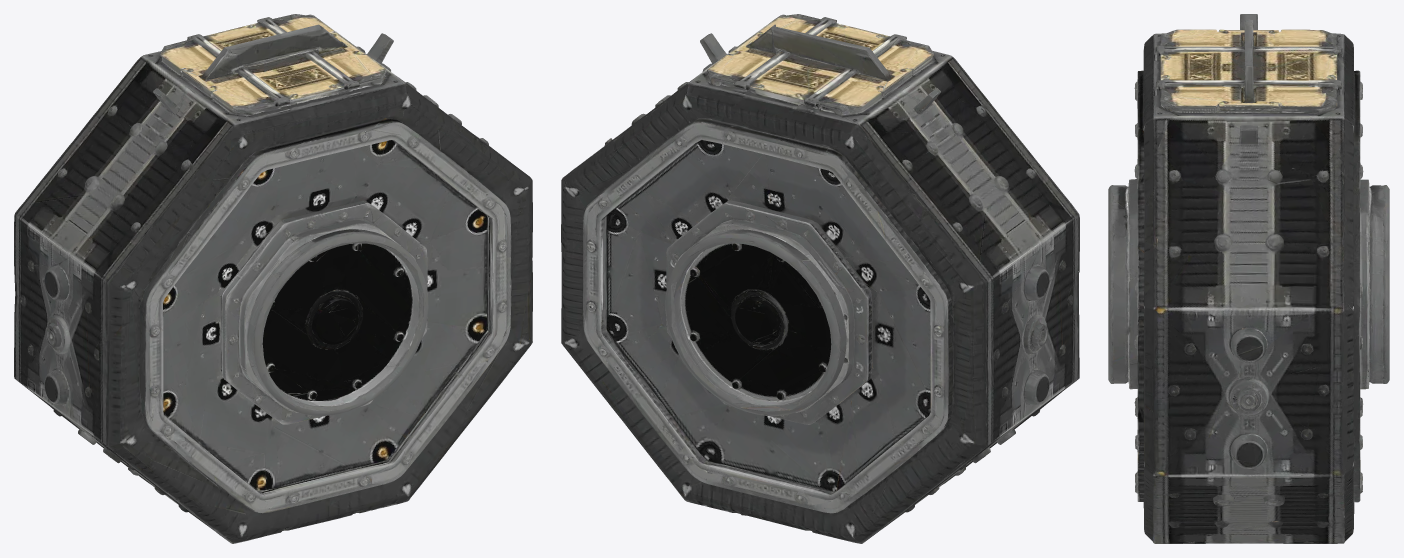
Rendered from satellite_bus.glb.
3 renders of one model, left to right at view 1: azimuth 30°, elevation 25°; view 2: azimuth 150°, elevation 25°; view 3: azimuth 270°, elevation 25°, orthographic.
Size of the model in its own units: 1.9 by 1.86 by 1.03.
1 material, 1 textured.
